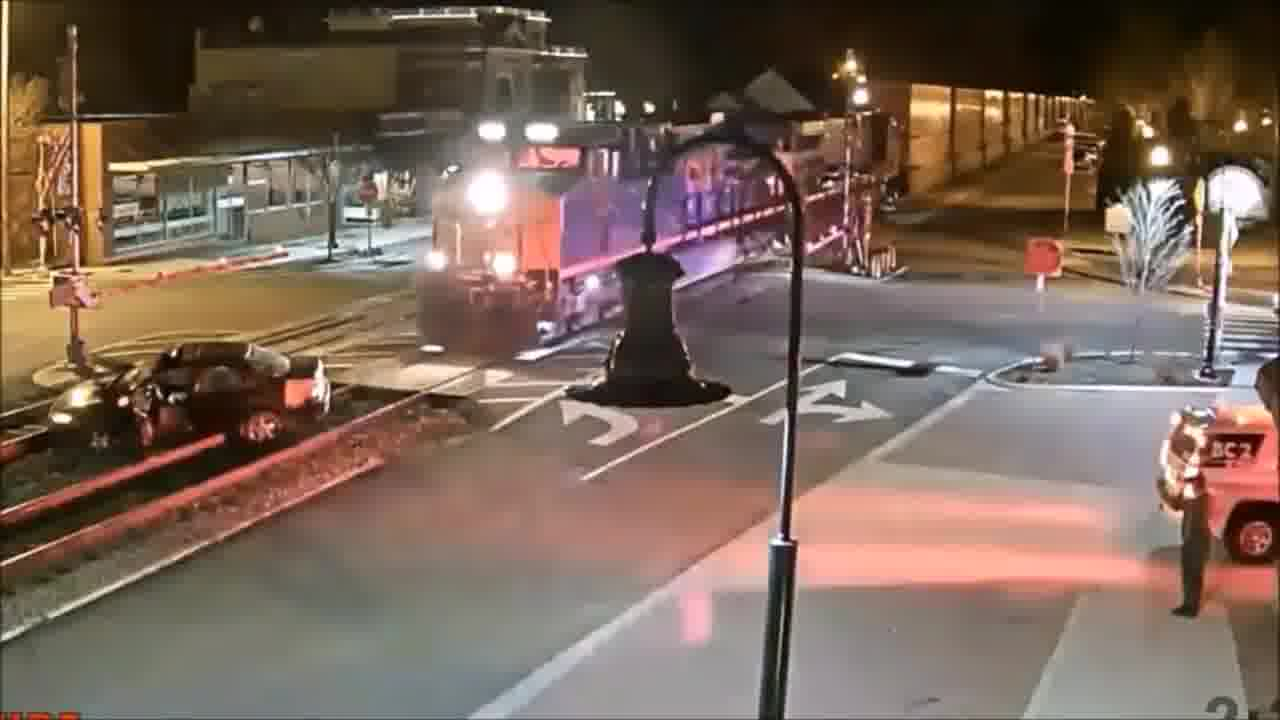crossing railway track: (23, 324, 348, 450)
